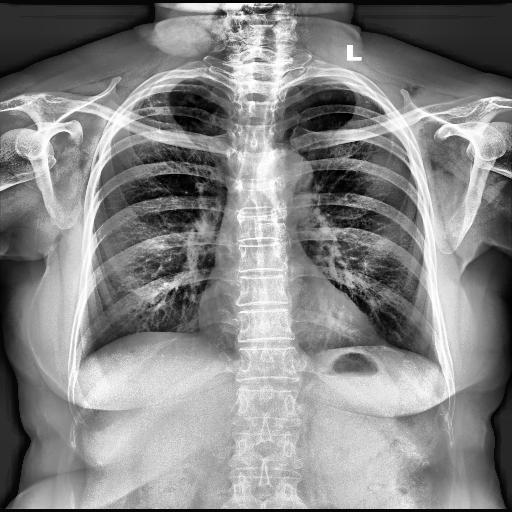0- Aortic enlargement: (262, 149, 310, 208), (258, 148, 312, 188)
13- Pulmonary fibrosis: (143, 89, 202, 131), (156, 86, 220, 120)
